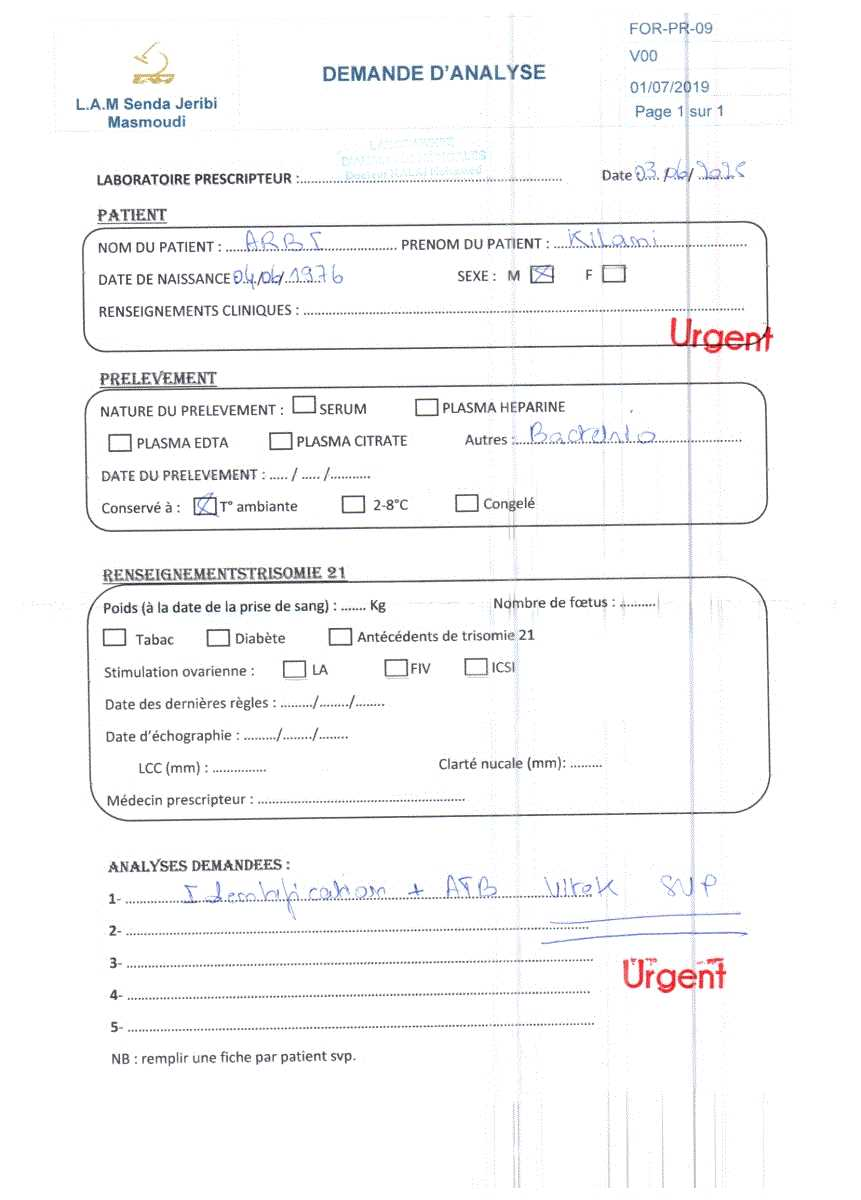zone_analyses: (92, 824, 830, 941)
zone_commentaires: (590, 142, 766, 203)
zone_date: (82, 186, 701, 339)
